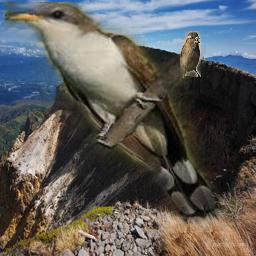Cuckoo: (5, 2, 228, 231)
Sparrow: (180, 31, 201, 78)
